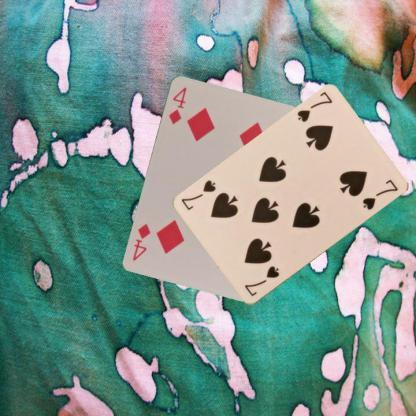4d: (166, 84, 188, 126)
7s: (294, 89, 334, 124), (241, 264, 281, 298)
